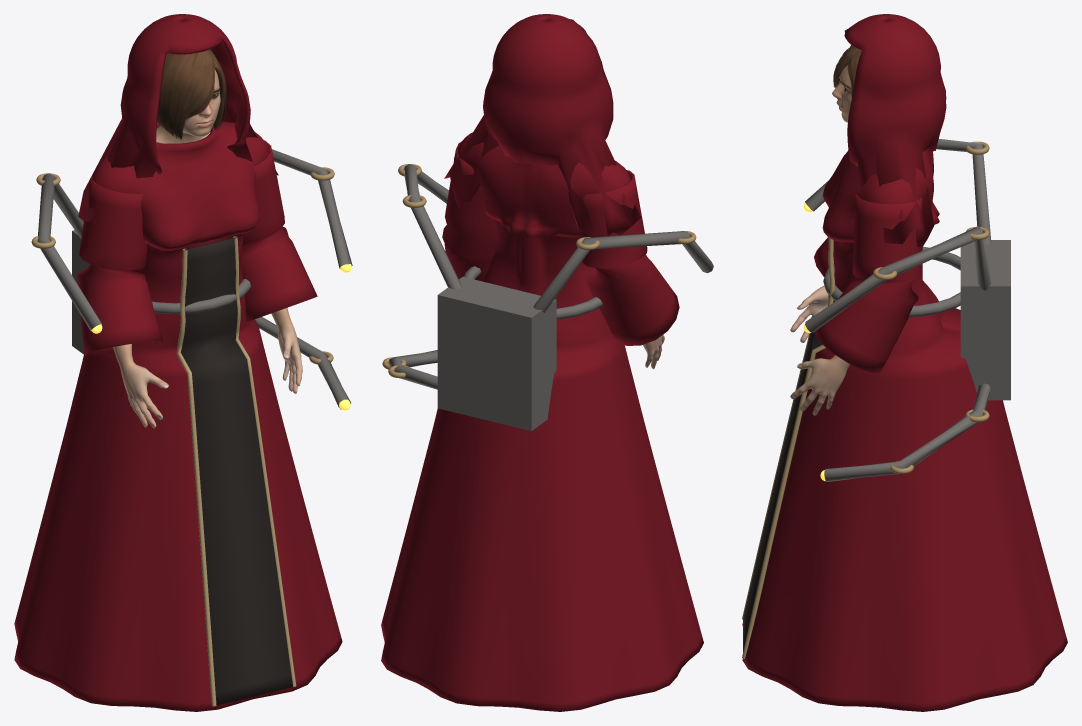
Rendered from crew_mint_master.glb.
3 views of the same model, side by side, from view 1: azimuth 30°, elevation 25°; view 2: azimuth 150°, elevation 25°; view 3: azimuth 270°, elevation 25° (orthographic).
Visible parts, largest first — view 1: robe, tabard, mantle, hood, sleeve.001, sleeve, Human, Human.bob02, dendrite.001, tabard_edge, tabard_edge.001, dendrite (+3 smaller); view 2: robe, hood, engine, sleeve.001, mantle, sleeve, dendrite.001, dendrite, dendrite.002, belt; view 3: robe, hood, sleeve, engine, mantle, Human, dendrite, dendrite.002, tabard, tabard_edge.001, dendrite.001, belt (+1 smaller).
Part boxes in pixels (bbox=[...]): robe: bbox=[14, 233, 342, 711]; tabard: bbox=[180, 237, 292, 705]; mantle: bbox=[88, 121, 269, 250]; hood: bbox=[78, 14, 278, 221]; sleeve.001: bbox=[76, 174, 162, 355]; sleeve: bbox=[240, 140, 317, 322]; Human: bbox=[113, 69, 302, 428]; Human.bob02: bbox=[157, 49, 226, 140]; dendrite.001: bbox=[37, 173, 102, 331]; tabard_edge: bbox=[176, 248, 216, 706]; tabard_edge.001: bbox=[233, 236, 296, 686]; dendrite: bbox=[272, 149, 352, 268]; robe: bbox=[381, 219, 703, 711]; hood: bbox=[444, 14, 641, 237]; engine: bbox=[437, 277, 556, 430]; sleeve.001: bbox=[578, 170, 679, 345]; mantle: bbox=[454, 132, 630, 237]; sleeve: bbox=[442, 141, 497, 281]; dendrite.001: bbox=[533, 231, 713, 312]; dendrite: bbox=[404, 164, 461, 289]; dendrite.002: bbox=[388, 350, 437, 389]; belt: bbox=[463, 266, 602, 319]; robe: bbox=[742, 240, 1067, 711]; hood: bbox=[844, 14, 946, 250]; sleeve: bbox=[814, 194, 922, 372]; engine: bbox=[960, 240, 1010, 400]; mantle: bbox=[822, 150, 939, 242]; Human: bbox=[790, 65, 851, 415]; dendrite: bbox=[805, 227, 991, 332]; dendrite.002: bbox=[824, 383, 990, 481]; tabard: bbox=[743, 295, 833, 651]; tabard_edge.001: bbox=[742, 238, 834, 658]; dendrite.001: bbox=[805, 139, 991, 245]; belt: bbox=[823, 246, 960, 316].
Bounding box in the file's own units: 0.838 × 1.66 × 0.7758.
11 materials, 5 textured.
